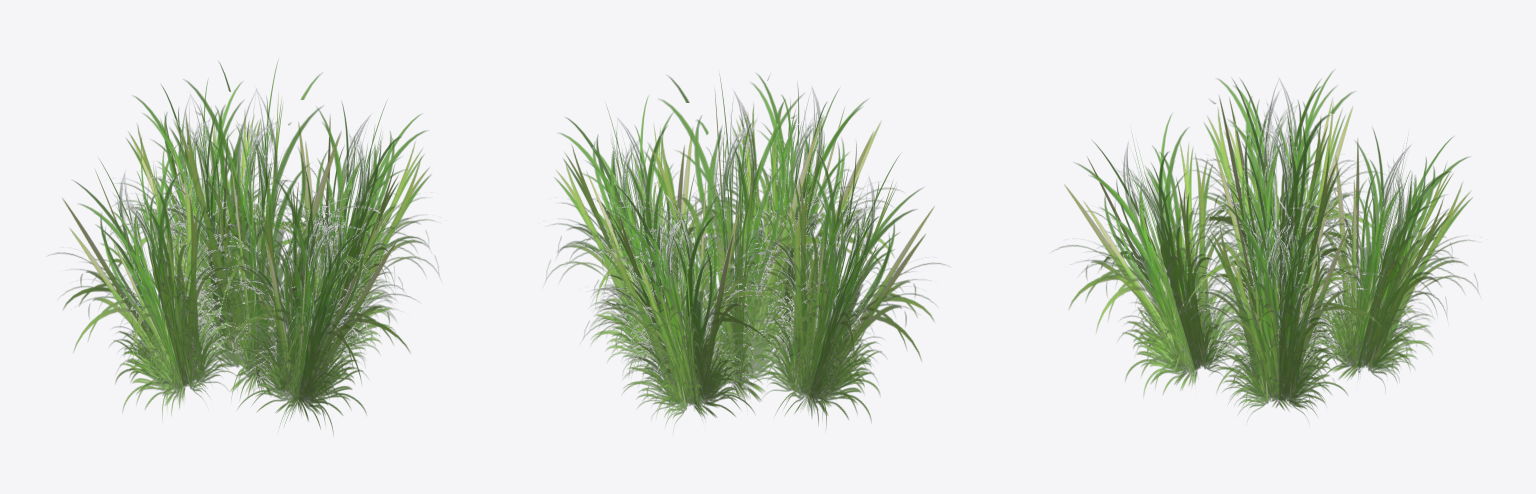
Rendered from Low_Poly_Grass.glb.
The picture shows the model from 3 angles, left to right: view 1: azimuth 30°, elevation 25°; view 2: azimuth 150°, elevation 25°; view 3: azimuth 270°, elevation 25°; orthographic projection. The views are drawn at different scales.
Visible parts, largest first — view 1: grassAS_01_grassMat_0; view 2: grassAS_01_grassMat_0; view 3: grassAS_01_grassMat_0.
Boxes of the visible parts, box(x1,y1,x2,y2) form: grassAS_01_grassMat_0: box(51, 60, 439, 433); grassAS_01_grassMat_0: box(545, 73, 945, 427); grassAS_01_grassMat_0: box(1052, 71, 1478, 416).
Size of the model in its own units: 0.4285 by 0.3162 by 0.4285.
1 material, 1 textured.
